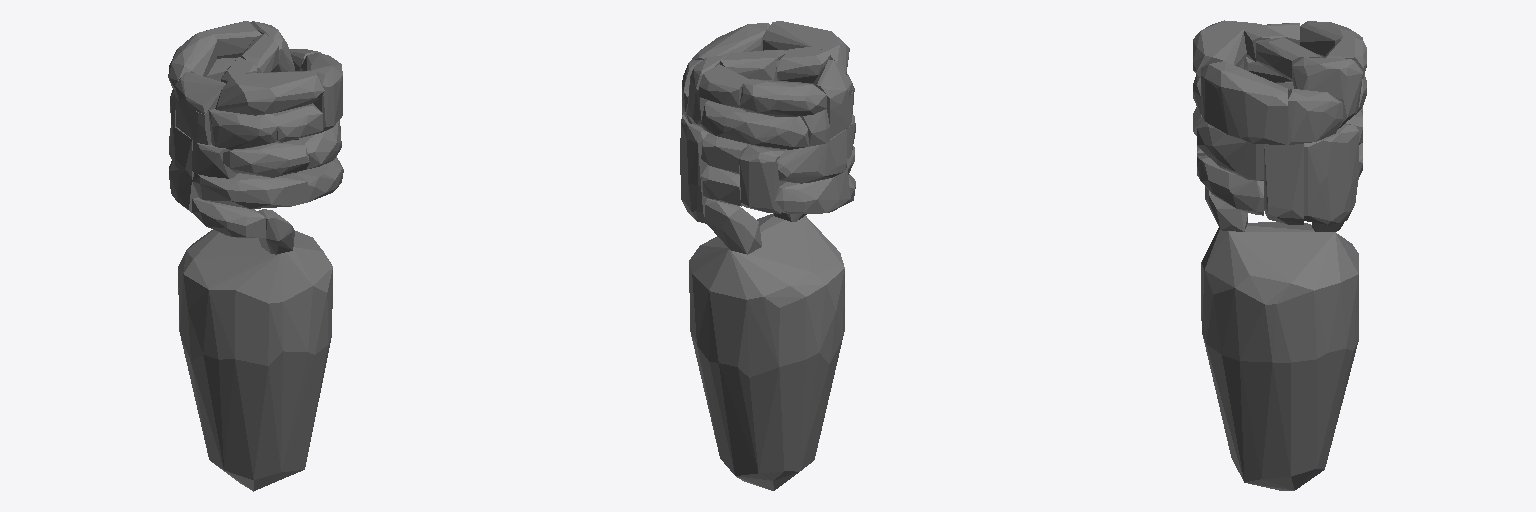
The robot description file, URDF, robot "light_bulb_003":
<?xml version="1.0" ?>
<robot name="light_bulb_003">
  <material name="color">
    <color rgba=".5 .5 .5 1"/>
  </material>

  <link name="base_link">
    <contact>
      <lateral_friction value="1.0"/>
      <rolling_friction value="0.001"/>
      <spinning_friction value="0.001"/>
      <inertia_scaling value="1.0"/>
    </contact>
    <inertial>
      <origin rpy="0 0 0" xyz="7.17117e-05 6.70547e-05 0.0125513"/>
       <mass value="0.1"/>
       <inertia ixx="1" ixy="0" ixz="0" iyy="1" iyz="0" izz="1"/>
    </inertial>

    <visual>
      <origin rpy="0 0 0" xyz="0 0 0"/>
      <geometry>
        <mesh filename="light_bulb_003_vhacd_0_of_30.obj" scale="1 1 1"/>
      </geometry>
      <material name="color"/>
    </visual>
    <visual>
      <origin rpy="0 0 0" xyz="0 0 0"/>
      <geometry>
        <mesh filename="light_bulb_003_vhacd_1_of_30.obj" scale="1 1 1"/>
      </geometry>
      <material name="color"/>
    </visual>
    <visual>
      <origin rpy="0 0 0" xyz="0 0 0"/>
      <geometry>
        <mesh filename="light_bulb_003_vhacd_2_of_30.obj" scale="1 1 1"/>
      </geometry>
      <material name="color"/>
    </visual>
    <visual>
      <origin rpy="0 0 0" xyz="0 0 0"/>
      <geometry>
        <mesh filename="light_bulb_003_vhacd_3_of_30.obj" scale="1 1 1"/>
      </geometry>
      <material name="color"/>
    </visual>
    <visual>
      <origin rpy="0 0 0" xyz="0 0 0"/>
      <geometry>
        <mesh filename="light_bulb_003_vhacd_4_of_30.obj" scale="1 1 1"/>
      </geometry>
      <material name="color"/>
    </visual>
    <visual>
      <origin rpy="0 0 0" xyz="0 0 0"/>
      <geometry>
        <mesh filename="light_bulb_003_vhacd_5_of_30.obj" scale="1 1 1"/>
      </geometry>
      <material name="color"/>
    </visual>
    <visual>
      <origin rpy="0 0 0" xyz="0 0 0"/>
      <geometry>
        <mesh filename="light_bulb_003_vhacd_6_of_30.obj" scale="1 1 1"/>
      </geometry>
      <material name="color"/>
    </visual>
    <visual>
      <origin rpy="0 0 0" xyz="0 0 0"/>
      <geometry>
        <mesh filename="light_bulb_003_vhacd_7_of_30.obj" scale="1 1 1"/>
      </geometry>
      <material name="color"/>
    </visual>
    <visual>
      <origin rpy="0 0 0" xyz="0 0 0"/>
      <geometry>
        <mesh filename="light_bulb_003_vhacd_8_of_30.obj" scale="1 1 1"/>
      </geometry>
      <material name="color"/>
    </visual>
    <visual>
      <origin rpy="0 0 0" xyz="0 0 0"/>
      <geometry>
        <mesh filename="light_bulb_003_vhacd_9_of_30.obj" scale="1 1 1"/>
      </geometry>
      <material name="color"/>
    </visual>
    <visual>
      <origin rpy="0 0 0" xyz="0 0 0"/>
      <geometry>
        <mesh filename="light_bulb_003_vhacd_10_of_30.obj" scale="1 1 1"/>
      </geometry>
      <material name="color"/>
    </visual>
    <visual>
      <origin rpy="0 0 0" xyz="0 0 0"/>
      <geometry>
        <mesh filename="light_bulb_003_vhacd_11_of_30.obj" scale="1 1 1"/>
      </geometry>
      <material name="color"/>
    </visual>
    <visual>
      <origin rpy="0 0 0" xyz="0 0 0"/>
      <geometry>
        <mesh filename="light_bulb_003_vhacd_12_of_30.obj" scale="1 1 1"/>
      </geometry>
      <material name="color"/>
    </visual>
    <visual>
      <origin rpy="0 0 0" xyz="0 0 0"/>
      <geometry>
        <mesh filename="light_bulb_003_vhacd_13_of_30.obj" scale="1 1 1"/>
      </geometry>
      <material name="color"/>
    </visual>
    <visual>
      <origin rpy="0 0 0" xyz="0 0 0"/>
      <geometry>
        <mesh filename="light_bulb_003_vhacd_14_of_30.obj" scale="1 1 1"/>
      </geometry>
      <material name="color"/>
    </visual>
    <visual>
      <origin rpy="0 0 0" xyz="0 0 0"/>
      <geometry>
        <mesh filename="light_bulb_003_vhacd_15_of_30.obj" scale="1 1 1"/>
      </geometry>
      <material name="color"/>
    </visual>
    <visual>
      <origin rpy="0 0 0" xyz="0 0 0"/>
      <geometry>
        <mesh filename="light_bulb_003_vhacd_16_of_30.obj" scale="1 1 1"/>
      </geometry>
      <material name="color"/>
    </visual>
    <visual>
      <origin rpy="0 0 0" xyz="0 0 0"/>
      <geometry>
        <mesh filename="light_bulb_003_vhacd_17_of_30.obj" scale="1 1 1"/>
      </geometry>
      <material name="color"/>
    </visual>
    <visual>
      <origin rpy="0 0 0" xyz="0 0 0"/>
      <geometry>
        <mesh filename="light_bulb_003_vhacd_18_of_30.obj" scale="1 1 1"/>
      </geometry>
      <material name="color"/>
    </visual>
    <visual>
      <origin rpy="0 0 0" xyz="0 0 0"/>
      <geometry>
        <mesh filename="light_bulb_003_vhacd_19_of_30.obj" scale="1 1 1"/>
      </geometry>
      <material name="color"/>
    </visual>
    <visual>
      <origin rpy="0 0 0" xyz="0 0 0"/>
      <geometry>
        <mesh filename="light_bulb_003_vhacd_20_of_30.obj" scale="1 1 1"/>
      </geometry>
      <material name="color"/>
    </visual>
    <visual>
      <origin rpy="0 0 0" xyz="0 0 0"/>
      <geometry>
        <mesh filename="light_bulb_003_vhacd_21_of_30.obj" scale="1 1 1"/>
      </geometry>
      <material name="color"/>
    </visual>
    <visual>
      <origin rpy="0 0 0" xyz="0 0 0"/>
      <geometry>
        <mesh filename="light_bulb_003_vhacd_22_of_30.obj" scale="1 1 1"/>
      </geometry>
      <material name="color"/>
    </visual>
    <visual>
      <origin rpy="0 0 0" xyz="0 0 0"/>
      <geometry>
        <mesh filename="light_bulb_003_vhacd_23_of_30.obj" scale="1 1 1"/>
      </geometry>
      <material name="color"/>
    </visual>
    <visual>
      <origin rpy="0 0 0" xyz="0 0 0"/>
      <geometry>
        <mesh filename="light_bulb_003_vhacd_24_of_30.obj" scale="1 1 1"/>
      </geometry>
      <material name="color"/>
    </visual>
    <visual>
      <origin rpy="0 0 0" xyz="0 0 0"/>
      <geometry>
        <mesh filename="light_bulb_003_vhacd_25_of_30.obj" scale="1 1 1"/>
      </geometry>
      <material name="color"/>
    </visual>
    <visual>
      <origin rpy="0 0 0" xyz="0 0 0"/>
      <geometry>
        <mesh filename="light_bulb_003_vhacd_26_of_30.obj" scale="1 1 1"/>
      </geometry>
      <material name="color"/>
    </visual>
    <visual>
      <origin rpy="0 0 0" xyz="0 0 0"/>
      <geometry>
        <mesh filename="light_bulb_003_vhacd_27_of_30.obj" scale="1 1 1"/>
      </geometry>
      <material name="color"/>
    </visual>
    <visual>
      <origin rpy="0 0 0" xyz="0 0 0"/>
      <geometry>
        <mesh filename="light_bulb_003_vhacd_28_of_30.obj" scale="1 1 1"/>
      </geometry>
      <material name="color"/>
    </visual>
    <visual>
      <origin rpy="0 0 0" xyz="0 0 0"/>
      <geometry>
        <mesh filename="light_bulb_003_vhacd_29_of_30.obj" scale="1 1 1"/>
      </geometry>
      <material name="color"/>
    </visual>

    <collision>
      <origin rpy="0 0 0" xyz="0 0 0"/>
      <geometry>
        <mesh filename="light_bulb_003_vhacd_0_of_30.obj" scale="1 1 1"/>
      </geometry>
    </collision>
    <collision>
      <origin rpy="0 0 0" xyz="0 0 0"/>
      <geometry>
        <mesh filename="light_bulb_003_vhacd_1_of_30.obj" scale="1 1 1"/>
      </geometry>
    </collision>
    <collision>
      <origin rpy="0 0 0" xyz="0 0 0"/>
      <geometry>
        <mesh filename="light_bulb_003_vhacd_2_of_30.obj" scale="1 1 1"/>
      </geometry>
    </collision>
    <collision>
      <origin rpy="0 0 0" xyz="0 0 0"/>
      <geometry>
        <mesh filename="light_bulb_003_vhacd_3_of_30.obj" scale="1 1 1"/>
      </geometry>
    </collision>
    <collision>
      <origin rpy="0 0 0" xyz="0 0 0"/>
      <geometry>
        <mesh filename="light_bulb_003_vhacd_4_of_30.obj" scale="1 1 1"/>
      </geometry>
    </collision>
    <collision>
      <origin rpy="0 0 0" xyz="0 0 0"/>
      <geometry>
        <mesh filename="light_bulb_003_vhacd_5_of_30.obj" scale="1 1 1"/>
      </geometry>
    </collision>
    <collision>
      <origin rpy="0 0 0" xyz="0 0 0"/>
      <geometry>
        <mesh filename="light_bulb_003_vhacd_6_of_30.obj" scale="1 1 1"/>
      </geometry>
    </collision>
    <collision>
      <origin rpy="0 0 0" xyz="0 0 0"/>
      <geometry>
        <mesh filename="light_bulb_003_vhacd_7_of_30.obj" scale="1 1 1"/>
      </geometry>
    </collision>
    <collision>
      <origin rpy="0 0 0" xyz="0 0 0"/>
      <geometry>
        <mesh filename="light_bulb_003_vhacd_8_of_30.obj" scale="1 1 1"/>
      </geometry>
    </collision>
    <collision>
      <origin rpy="0 0 0" xyz="0 0 0"/>
      <geometry>
        <mesh filename="light_bulb_003_vhacd_9_of_30.obj" scale="1 1 1"/>
      </geometry>
    </collision>
    <collision>
      <origin rpy="0 0 0" xyz="0 0 0"/>
      <geometry>
        <mesh filename="light_bulb_003_vhacd_10_of_30.obj" scale="1 1 1"/>
      </geometry>
    </collision>
    <collision>
      <origin rpy="0 0 0" xyz="0 0 0"/>
      <geometry>
        <mesh filename="light_bulb_003_vhacd_11_of_30.obj" scale="1 1 1"/>
      </geometry>
    </collision>
    <collision>
      <origin rpy="0 0 0" xyz="0 0 0"/>
      <geometry>
        <mesh filename="light_bulb_003_vhacd_12_of_30.obj" scale="1 1 1"/>
      </geometry>
    </collision>
    <collision>
      <origin rpy="0 0 0" xyz="0 0 0"/>
      <geometry>
        <mesh filename="light_bulb_003_vhacd_13_of_30.obj" scale="1 1 1"/>
      </geometry>
    </collision>
    <collision>
      <origin rpy="0 0 0" xyz="0 0 0"/>
      <geometry>
        <mesh filename="light_bulb_003_vhacd_14_of_30.obj" scale="1 1 1"/>
      </geometry>
    </collision>
    <collision>
      <origin rpy="0 0 0" xyz="0 0 0"/>
      <geometry>
        <mesh filename="light_bulb_003_vhacd_15_of_30.obj" scale="1 1 1"/>
      </geometry>
    </collision>
    <collision>
      <origin rpy="0 0 0" xyz="0 0 0"/>
      <geometry>
        <mesh filename="light_bulb_003_vhacd_16_of_30.obj" scale="1 1 1"/>
      </geometry>
    </collision>
    <collision>
      <origin rpy="0 0 0" xyz="0 0 0"/>
      <geometry>
        <mesh filename="light_bulb_003_vhacd_17_of_30.obj" scale="1 1 1"/>
      </geometry>
    </collision>
    <collision>
      <origin rpy="0 0 0" xyz="0 0 0"/>
      <geometry>
        <mesh filename="light_bulb_003_vhacd_18_of_30.obj" scale="1 1 1"/>
      </geometry>
    </collision>
    <collision>
      <origin rpy="0 0 0" xyz="0 0 0"/>
      <geometry>
        <mesh filename="light_bulb_003_vhacd_19_of_30.obj" scale="1 1 1"/>
      </geometry>
    </collision>
    <collision>
      <origin rpy="0 0 0" xyz="0 0 0"/>
      <geometry>
        <mesh filename="light_bulb_003_vhacd_20_of_30.obj" scale="1 1 1"/>
      </geometry>
    </collision>
    <collision>
      <origin rpy="0 0 0" xyz="0 0 0"/>
      <geometry>
        <mesh filename="light_bulb_003_vhacd_21_of_30.obj" scale="1 1 1"/>
      </geometry>
    </collision>
    <collision>
      <origin rpy="0 0 0" xyz="0 0 0"/>
      <geometry>
        <mesh filename="light_bulb_003_vhacd_22_of_30.obj" scale="1 1 1"/>
      </geometry>
    </collision>
    <collision>
      <origin rpy="0 0 0" xyz="0 0 0"/>
      <geometry>
        <mesh filename="light_bulb_003_vhacd_23_of_30.obj" scale="1 1 1"/>
      </geometry>
    </collision>
    <collision>
      <origin rpy="0 0 0" xyz="0 0 0"/>
      <geometry>
        <mesh filename="light_bulb_003_vhacd_24_of_30.obj" scale="1 1 1"/>
      </geometry>
    </collision>
    <collision>
      <origin rpy="0 0 0" xyz="0 0 0"/>
      <geometry>
        <mesh filename="light_bulb_003_vhacd_25_of_30.obj" scale="1 1 1"/>
      </geometry>
    </collision>
    <collision>
      <origin rpy="0 0 0" xyz="0 0 0"/>
      <geometry>
        <mesh filename="light_bulb_003_vhacd_26_of_30.obj" scale="1 1 1"/>
      </geometry>
    </collision>
    <collision>
      <origin rpy="0 0 0" xyz="0 0 0"/>
      <geometry>
        <mesh filename="light_bulb_003_vhacd_27_of_30.obj" scale="1 1 1"/>
      </geometry>
    </collision>
    <collision>
      <origin rpy="0 0 0" xyz="0 0 0"/>
      <geometry>
        <mesh filename="light_bulb_003_vhacd_28_of_30.obj" scale="1 1 1"/>
      </geometry>
    </collision>
    <collision>
      <origin rpy="0 0 0" xyz="0 0 0"/>
      <geometry>
        <mesh filename="light_bulb_003_vhacd_29_of_30.obj" scale="1 1 1"/>
      </geometry>
    </collision>

  </link>
</robot>

--- What the picture shows (computed from the rendered views, not written in the file) ---
The picture shows the robot from 3 angles, left to right: view 1: azimuth 30°, elevation 25°; view 2: azimuth 150°, elevation 25°; view 3: azimuth 270°, elevation 25°; orthographic projection.
Robot: light_bulb_003 — 1 links, 0 joints (none); root link base_link; default pose: every joint at zero.
Links seen in each view (by area): view 1: base_link; view 2: base_link; view 3: base_link.
Boxes of the visible links, x1,y1,x2,y2 form: base_link: (168,21,343,491); base_link: (680,21,855,490); base_link: (1193,20,1366,490).
Size in the robot's own frame: 0.0399 by 0.039 by 0.11 metres.
30 mesh visuals loaded from 30 distinct referenced files (30 OBJ).